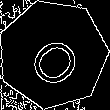O_NE: (19, 21, 86, 87)
